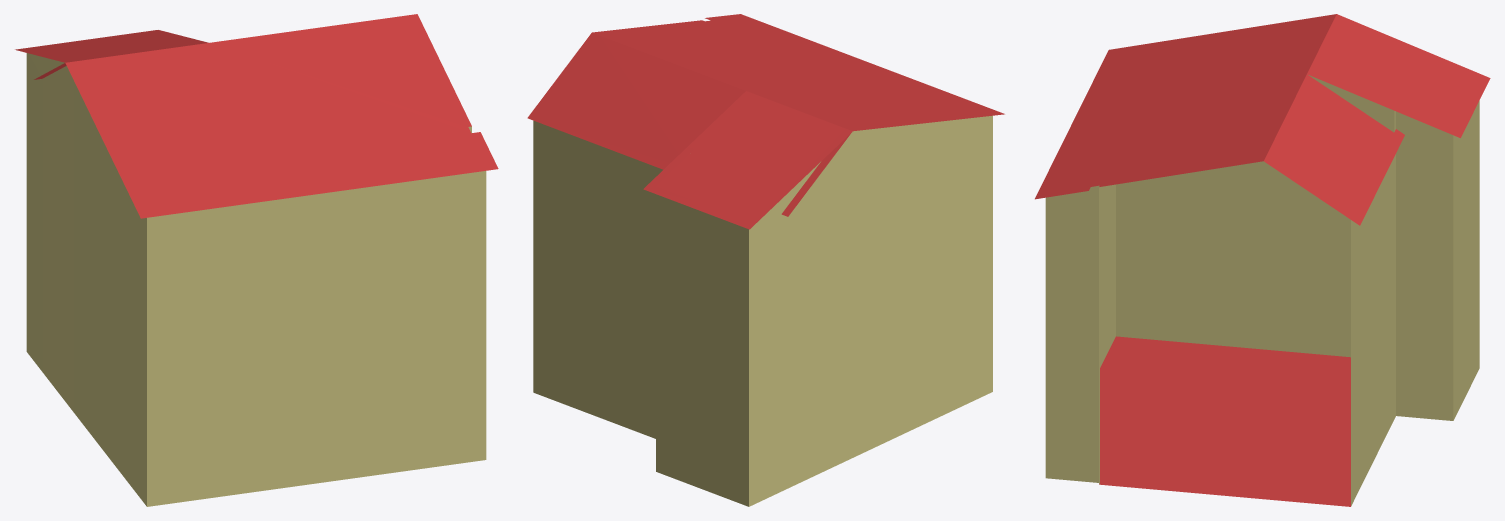
The picture shows the model from 3 angles, left to right: view 1: azimuth 30°, elevation 25°; view 2: azimuth 150°, elevation 25°; view 3: azimuth 270°, elevation 25°; orthographic projection. The views are drawn at different scales.
Bounding box in the file's own units: 11.16 × 12.22 × 9.99.
